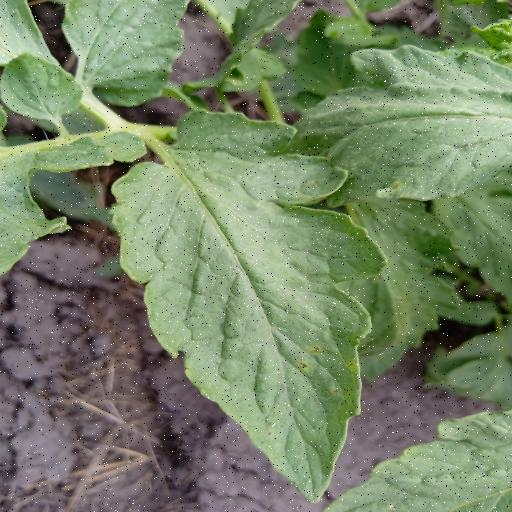Tomato_Brown_Spots: (104, 104, 388, 504)
